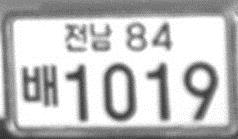0: (102, 62, 137, 121)
1: (145, 60, 170, 122), (64, 62, 89, 123)
4: (150, 21, 173, 50)
8: (125, 21, 148, 51)
9: (182, 60, 219, 121)
배: (21, 63, 60, 107)
전남_H: (62, 21, 112, 52)
